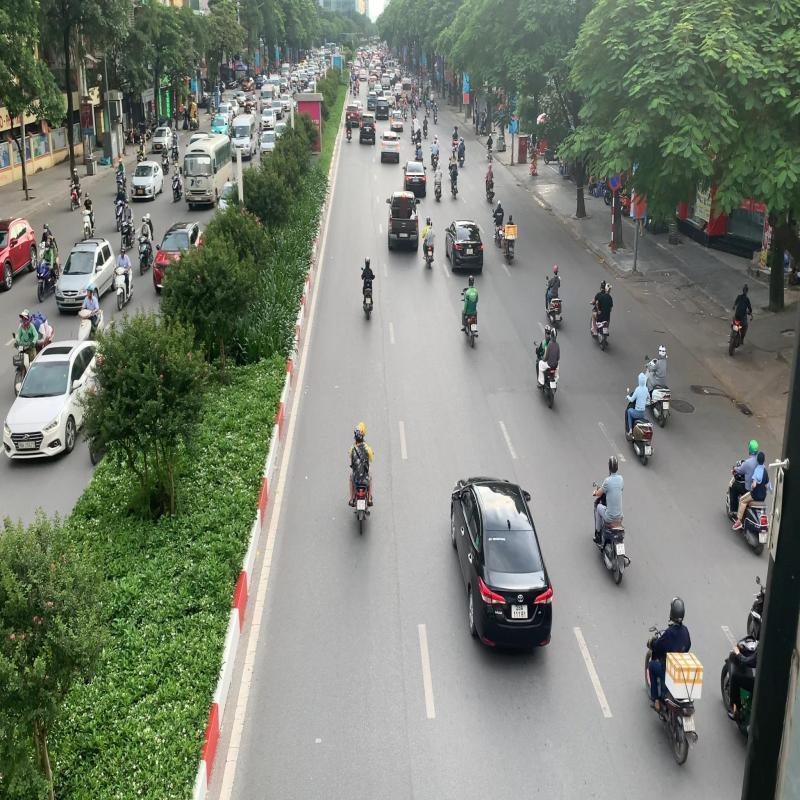helmet: (669, 596, 684, 622), (608, 455, 619, 473), (354, 426, 364, 442), (358, 422, 366, 436), (545, 324, 551, 336), (550, 328, 558, 337), (468, 276, 474, 284)
licenseplate: (616, 543, 626, 556), (356, 499, 366, 511), (550, 380, 556, 389), (472, 324, 477, 332)
motorcyclist: (591, 455, 631, 585), (348, 422, 375, 536), (533, 324, 561, 410), (460, 274, 479, 348)
